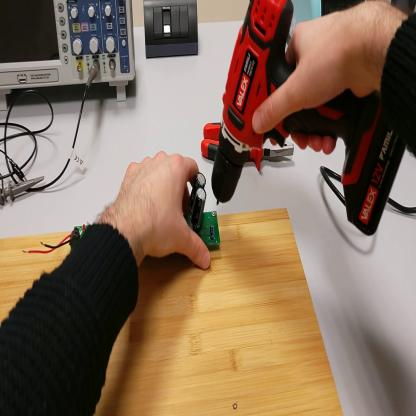electric screwdriver: (209, 2, 407, 235)
hand: (250, 2, 387, 145), (106, 153, 215, 273)
high voltage board: (24, 172, 222, 256)
oscilloscope: (2, 2, 137, 112)
oscilloscope probe tip: (2, 169, 45, 206)
pliers: (198, 122, 295, 164)
working area: (2, 208, 344, 415)
